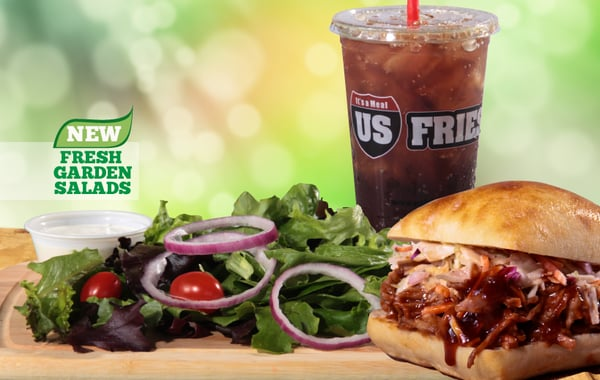soup: (368, 180, 600, 376)
sushi: (23, 210, 151, 262)
